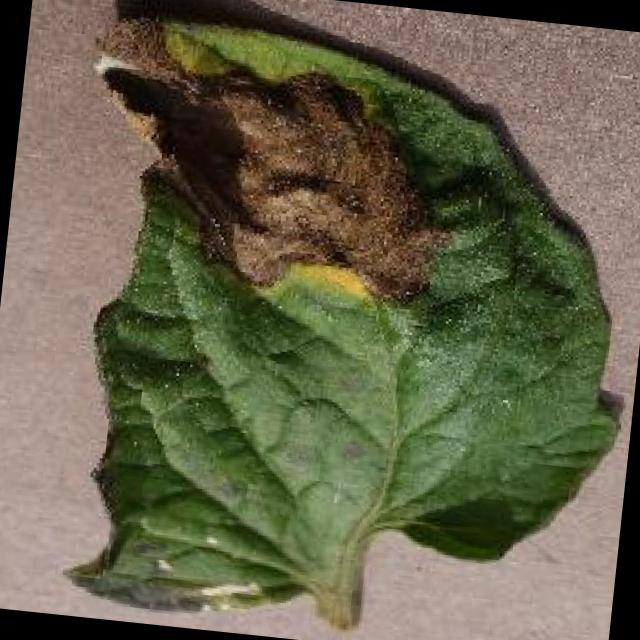Tomato_Late_Blight: (56, 0, 462, 316)
